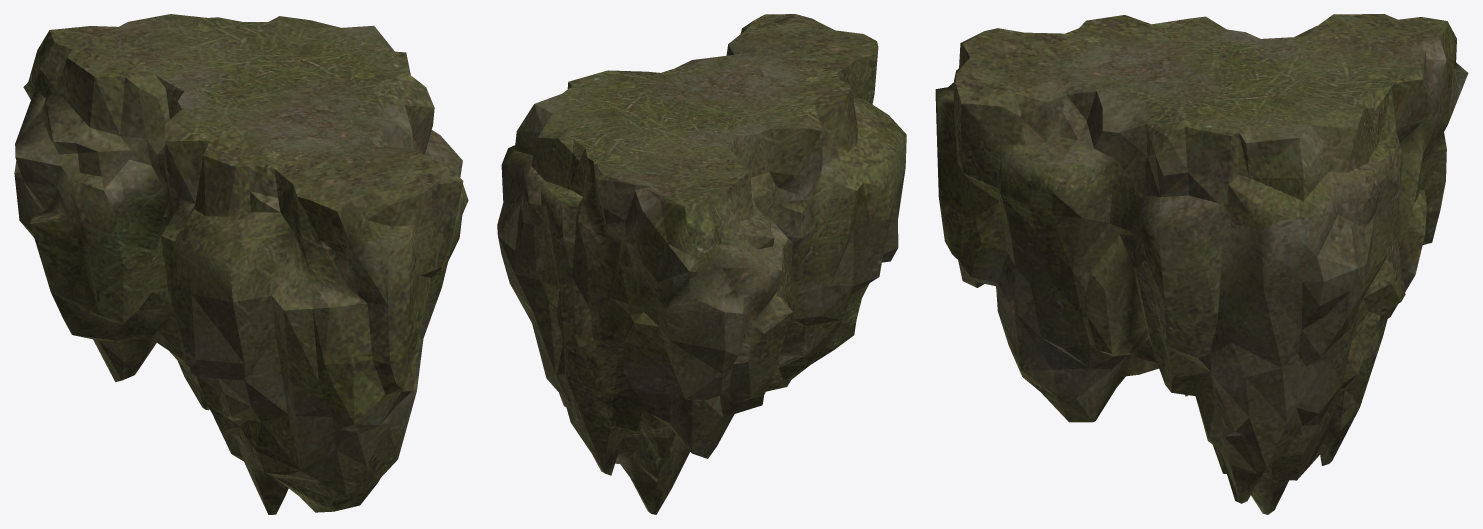
The model's file is bg_anh_stone_commonstone03_sm_sup.FBX.
3 views of the same model, side by side, from view 1: azimuth 30°, elevation 25°; view 2: azimuth 150°, elevation 25°; view 3: azimuth 270°, elevation 25° (orthographic). The views are drawn at different scales.
Visible parts, largest first — view 1: bg_anh_stone_commonstone03_sm_sup; view 2: bg_anh_stone_commonstone03_sm_sup; view 3: bg_anh_stone_commonstone03_sm_sup.
Part boxes in pixels (x1,y1,x2,y2): bg_anh_stone_commonstone03_sm_sup: (14,14,468,514); bg_anh_stone_commonstone03_sm_sup: (497,14,906,514); bg_anh_stone_commonstone03_sm_sup: (935,14,1468,514).
Size of the model in its own units: 493 by 588 by 658.
